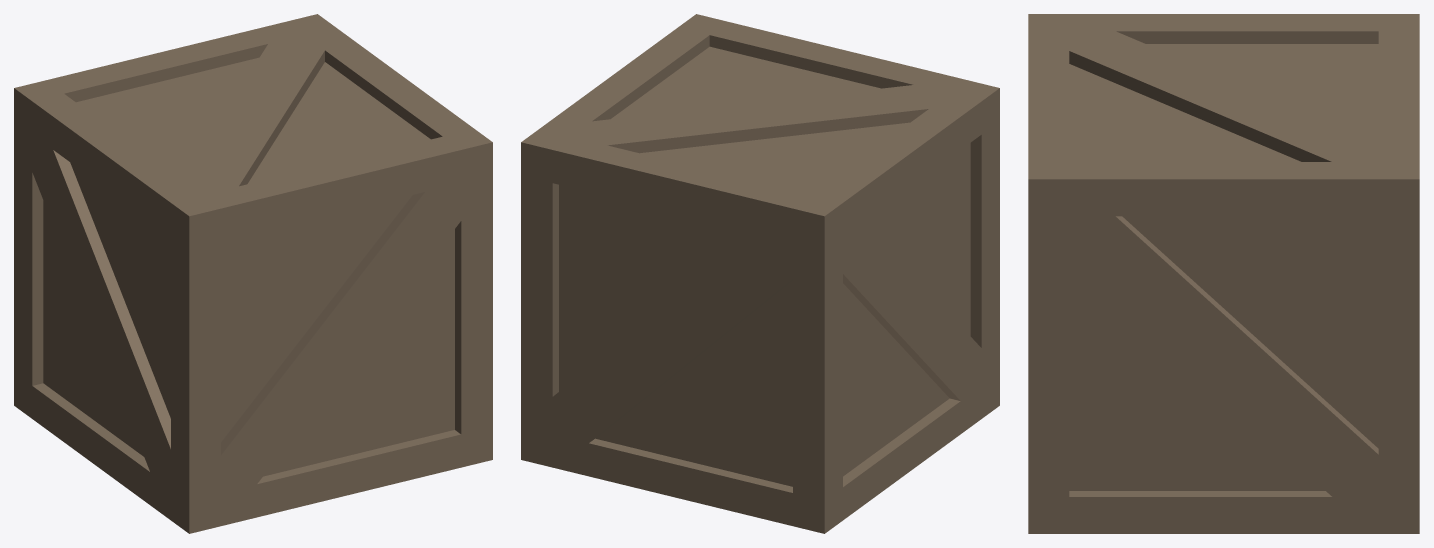
The model's file is PS_Crate01.fbx.
3 views of the same model, side by side, from view 1: azimuth 30°, elevation 25°; view 2: azimuth 150°, elevation 25°; view 3: azimuth 270°, elevation 25° (orthographic). The views are drawn at different scales.
Visible parts, largest first — view 1: PS_Crate01; view 2: PS_Crate01; view 3: PS_Crate01.
Part boxes in pixels (x1,y1,x2,y2): PS_Crate01: (14,14,492,533); PS_Crate01: (521,14,999,533); PS_Crate01: (1028,14,1419,533).
Size of the model in its own units: 0.5788 by 0.5788 by 0.5788.
